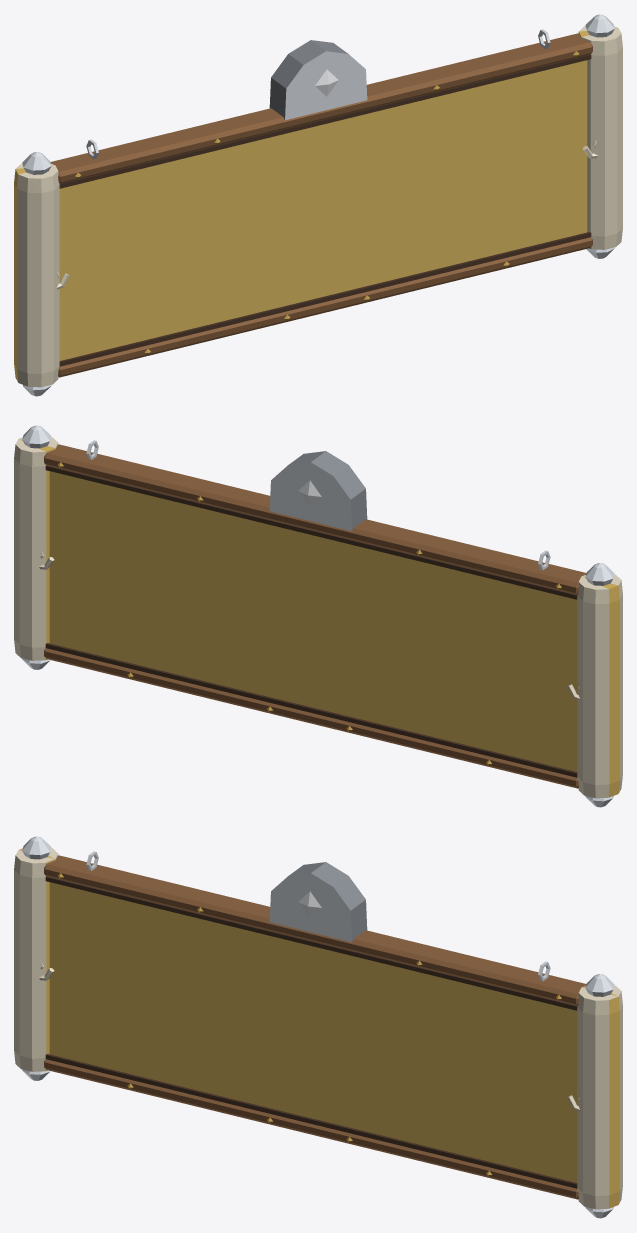
File: SignScrollBoard.obj
3 views of the same model, one above another, from view 1: azimuth 30°, elevation 25°; view 2: azimuth 150°, elevation 25°; view 3: azimuth 330°, elevation 25° (orthographic).
Bounding box in the file's own units: 9.08 × 4.06 × 0.57.
